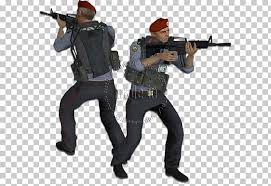gun: (143, 35, 232, 65), (37, 6, 77, 31)
